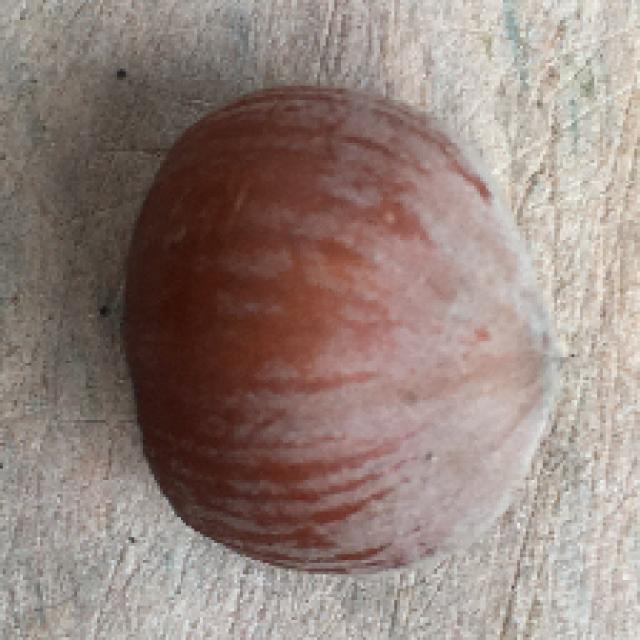QualityHazelnut: (129, 87, 569, 579)
